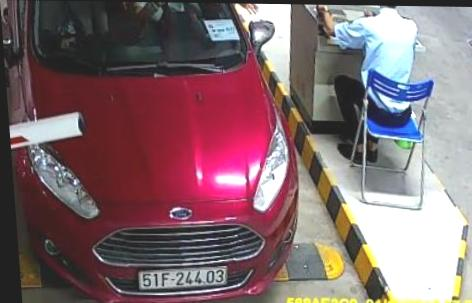License_Plate: (137, 266, 230, 294)
